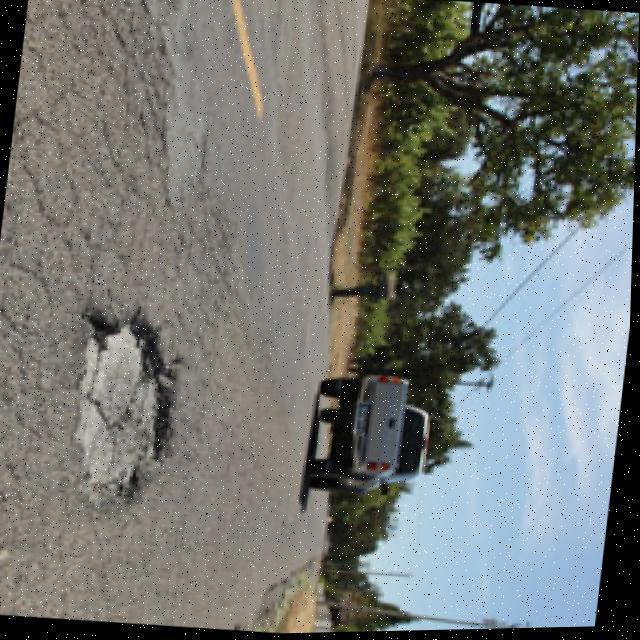Pothole: (74, 308, 175, 506)
